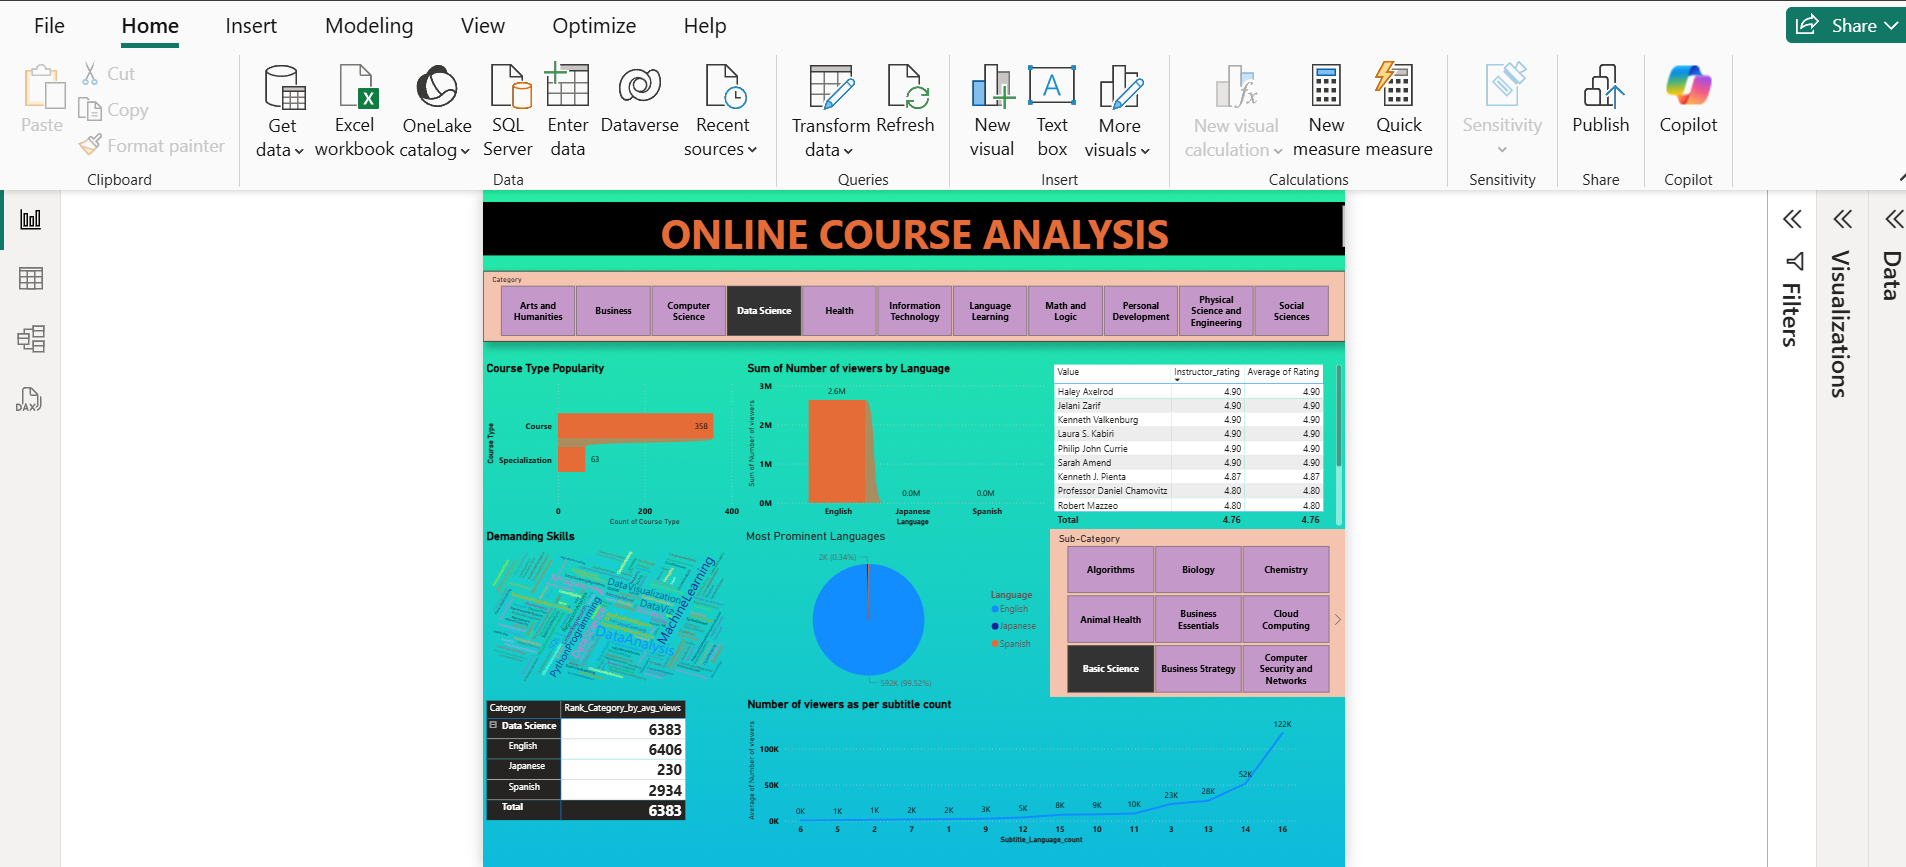

Layout of this report page (visuals, bound fields, positions):
{"tool":"powerbi","page":{"name":"Page 1","canvas":[1270,1000],"ordinal":0},"visuals":[{"type":"textbox","box":[0,18.8,1278.8,78.9],"z":0},{"type":"barChart","title":" Course Type Popularity","fields":{"Category":["Online_Courses.Course Type"],"Y":["Online_Courses.Course Type"]},"box":[0,251.8,382.2,247.4],"z":1000},{"type":"columnChart","fields":{"Category":["Online_Courses.Language","Online_Courses.Sub-Category"],"Y":["Online_Courses.Number of viewers"]},"box":[384.4,251.8,450.7,247.4],"z":2000},{"type":"WordCloud1447959067750","title":"Demanding Skills","fields":{"Category":["Online_Courses.Skills"]},"box":[0,499.3,382.2,247.4],"z":3000},{"type":"pieChart","title":"Most Prominent Languages","fields":{"Category":["Online_Courses.Language"],"Y":["Online_Courses.Column1"]},"box":[382.2,499.3,450.7,247.4],"z":4000},{"type":"pivotTable","fields":{"Rows":["Online_Courses.Category","Online_Courses.Language"],"Values":["Online_Courses.Rank_Category_by_avg_views"]},"box":[0,746.7,384.4,220.9],"z":5000},{"type":"lineChart","title":" Number of viewers as per subtitle count","fields":{"Category":["Online_Courses.Subtitle_Language_count"],"Y":["Online_Courses.Number of viewers"]},"box":[384.4,746.7,819.6,220.9],"z":6000},{"type":"tableEx","fields":{"Values":["Teachers.Value","Teachers.Instructor_rating","Teachers.Rating"]},"box":[835.1,251.8,435.2,247.4],"z":7000},{"type":"slicer","fields":{"Values":["Teachers.Sub-Category"]},"box":[835.1,499.3,435.2,247.4],"z":8000},{"type":"slicer","fields":{"Values":["Online_Courses.Category"]},"box":[0,119.3,1270.3,103.8],"z":9000}]}

Visuals, with their boxes on the page's 1270x1000 design canvas (x1, y1, x2, y2). These are canvas units, not pixel positions in the 1906x867 screenshot, which may show the page scaled, cropped or inside an application window:
textbox: box(0, 19, 1279, 98)
" Course Type Popularity" barChart: box(0, 252, 382, 499)
columnChart - Online_Courses.Language x Online_Courses.Sub-Category: box(384, 252, 835, 499)
"Demanding Skills" WordCloud1447959067750: box(0, 499, 382, 747)
"Most Prominent Languages" pieChart: box(382, 499, 833, 747)
pivotTable - Online_Courses.Category x Online_Courses.Language: box(0, 747, 384, 968)
" Number of viewers as per subtitle count" lineChart: box(384, 747, 1204, 968)
tableEx - Teachers.Value x Teachers.Instructor_rating: box(835, 252, 1270, 499)
slicer - Teachers.Sub-Category: box(835, 499, 1270, 747)
slicer - Online_Courses.Category: box(0, 119, 1270, 223)
